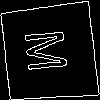M: (24, 27, 79, 73)
